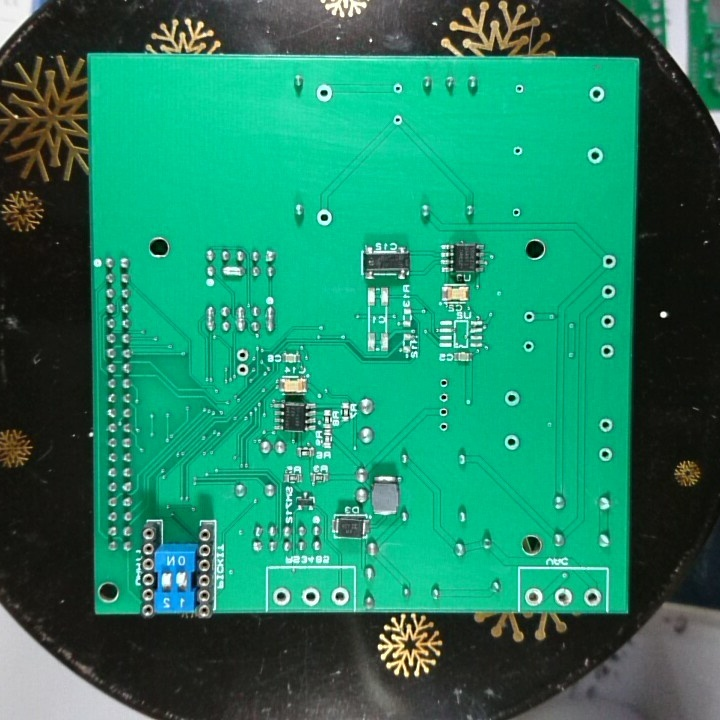F: (271, 584, 294, 609), (522, 586, 545, 609), (552, 584, 575, 607), (314, 80, 335, 105), (586, 81, 606, 107), (583, 144, 606, 166), (300, 586, 322, 608), (314, 206, 336, 228), (594, 445, 617, 466), (502, 386, 523, 409), (329, 586, 351, 607), (581, 586, 602, 608), (598, 340, 617, 362), (598, 312, 618, 332), (599, 281, 619, 301), (599, 252, 619, 272), (502, 431, 521, 452), (597, 415, 616, 435), (520, 308, 539, 326), (511, 81, 528, 99), (436, 389, 454, 406), (389, 111, 406, 129), (390, 79, 406, 97), (235, 363, 251, 380), (234, 347, 250, 363), (509, 142, 525, 158), (435, 404, 451, 420), (521, 337, 535, 355), (509, 203, 523, 220), (436, 375, 453, 389), (437, 420, 451, 436)
P: (219, 262, 248, 279), (235, 303, 250, 334), (264, 303, 277, 336), (204, 303, 217, 334)
